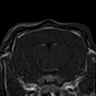Brain: (16, 31, 84, 78)
